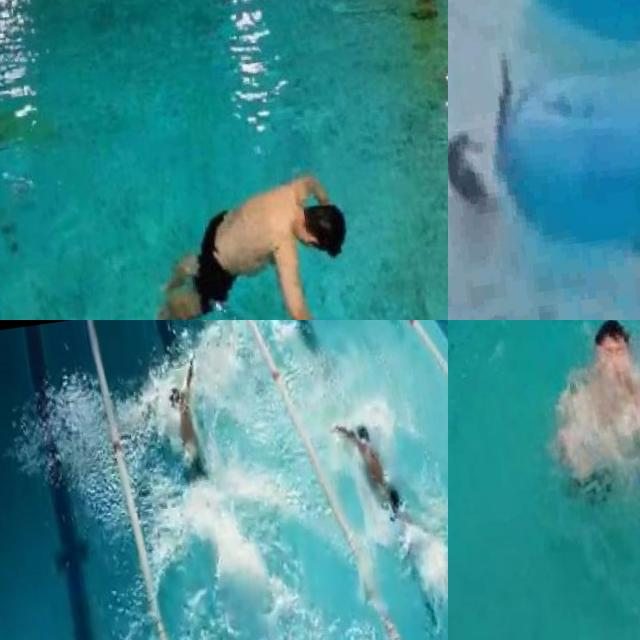drowning: (135, 165, 363, 320), (448, 34, 559, 320), (543, 320, 640, 486)
swimming: (151, 348, 240, 530), (321, 364, 417, 514)
